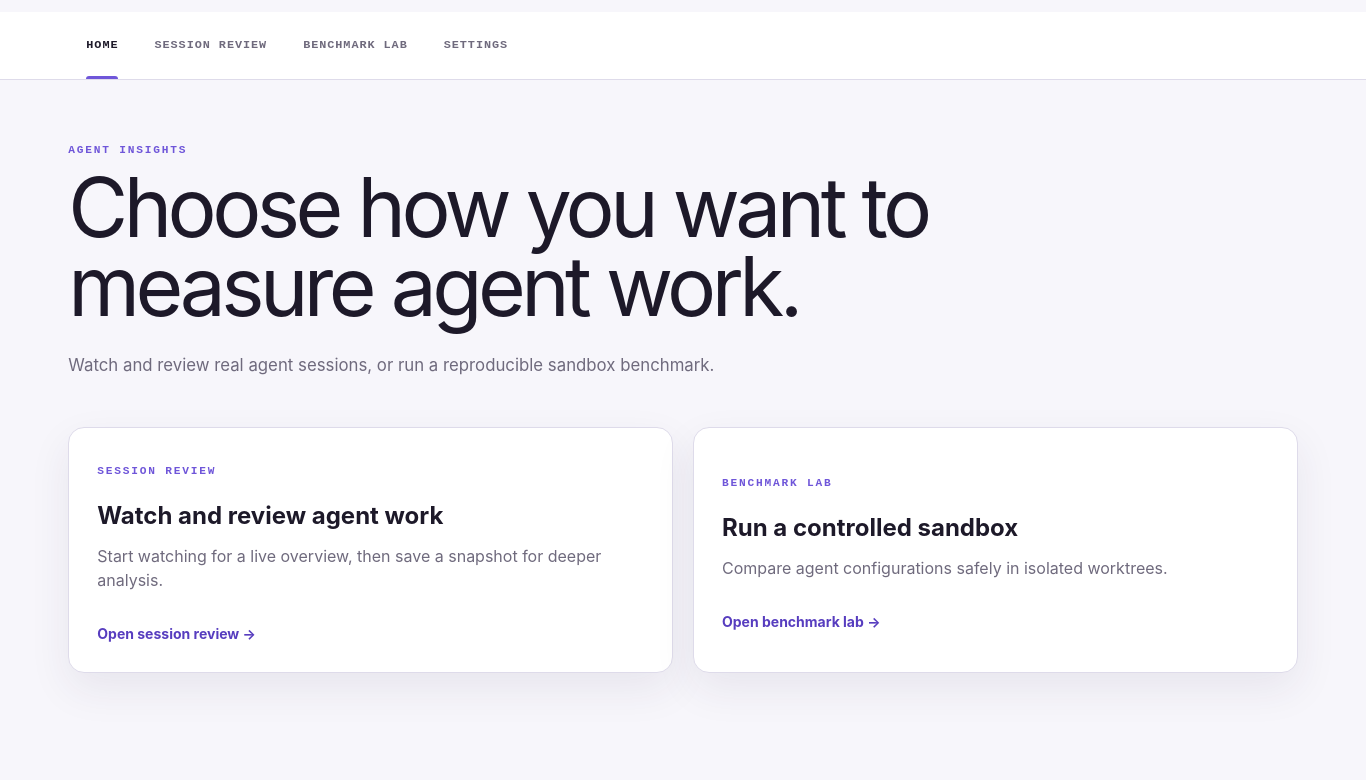
it: keeps completed cards compact and marks them successful
The image size is (1366, 780).
Click the button "Benchmark Lab". click: click(355, 46)
box: [285, 12, 426, 79]
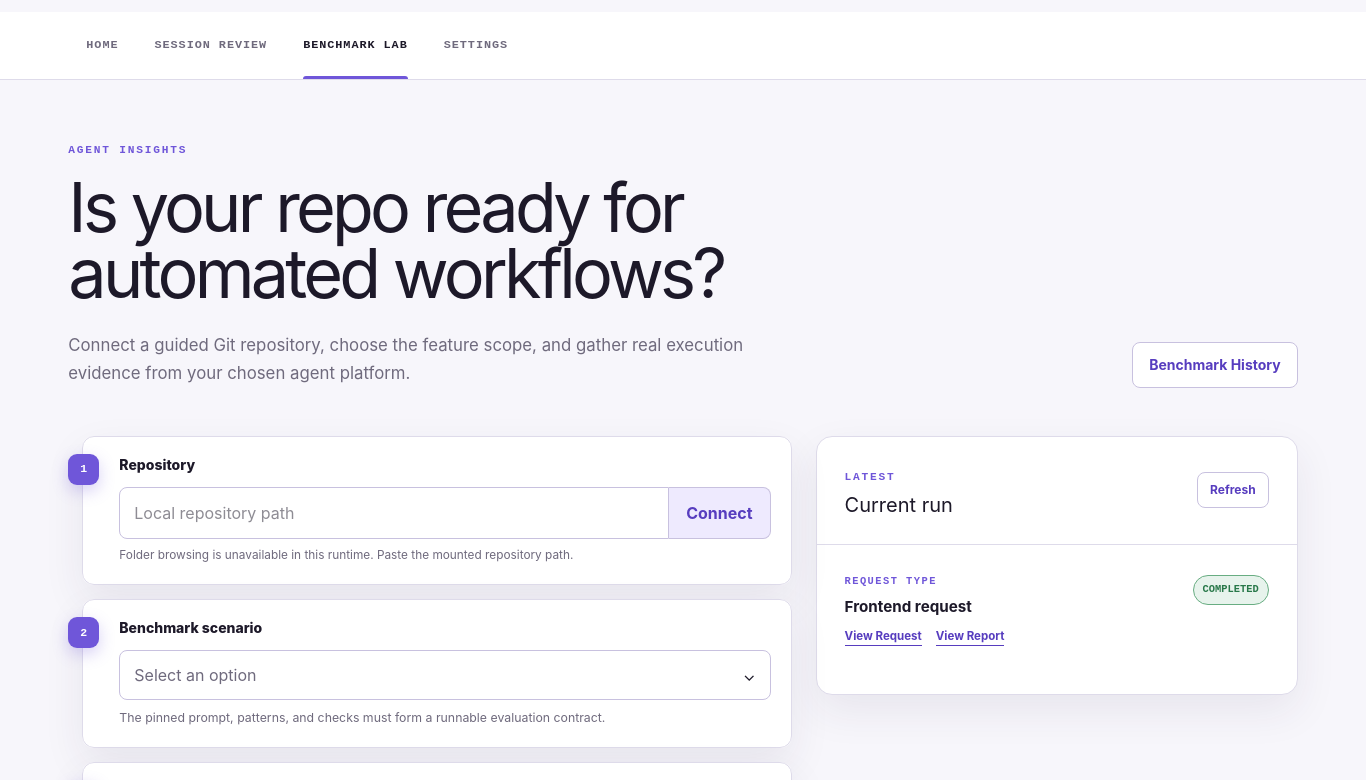
Result: the text "completed" is shown at [1193, 575, 1269, 605]
Result: the button "View Report" is shown at [936, 628, 1004, 646]
